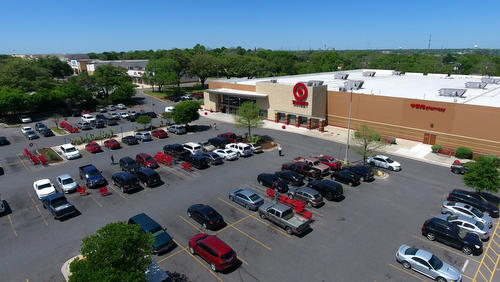car: (421, 216, 483, 260), (396, 242, 463, 282), (126, 210, 177, 257), (187, 232, 238, 272), (258, 201, 307, 236), (440, 199, 494, 230), (186, 200, 224, 231), (308, 178, 344, 202), (41, 195, 79, 215), (329, 167, 362, 190), (228, 188, 261, 209), (281, 159, 314, 178), (288, 186, 319, 206), (298, 154, 328, 174), (109, 173, 139, 193), (136, 170, 165, 189), (77, 166, 106, 185), (55, 173, 80, 192), (257, 171, 286, 187), (33, 179, 57, 198), (163, 144, 188, 161), (214, 147, 240, 163), (135, 152, 158, 168), (217, 131, 242, 144), (118, 155, 138, 171), (226, 142, 249, 155), (205, 150, 222, 165), (187, 155, 206, 168), (168, 124, 186, 137), (182, 141, 201, 153), (84, 142, 103, 154), (61, 143, 78, 156), (104, 139, 122, 151), (135, 131, 153, 142), (153, 128, 168, 140), (122, 134, 138, 144), (90, 119, 107, 128), (106, 117, 119, 127), (75, 121, 91, 129), (25, 130, 37, 139)
